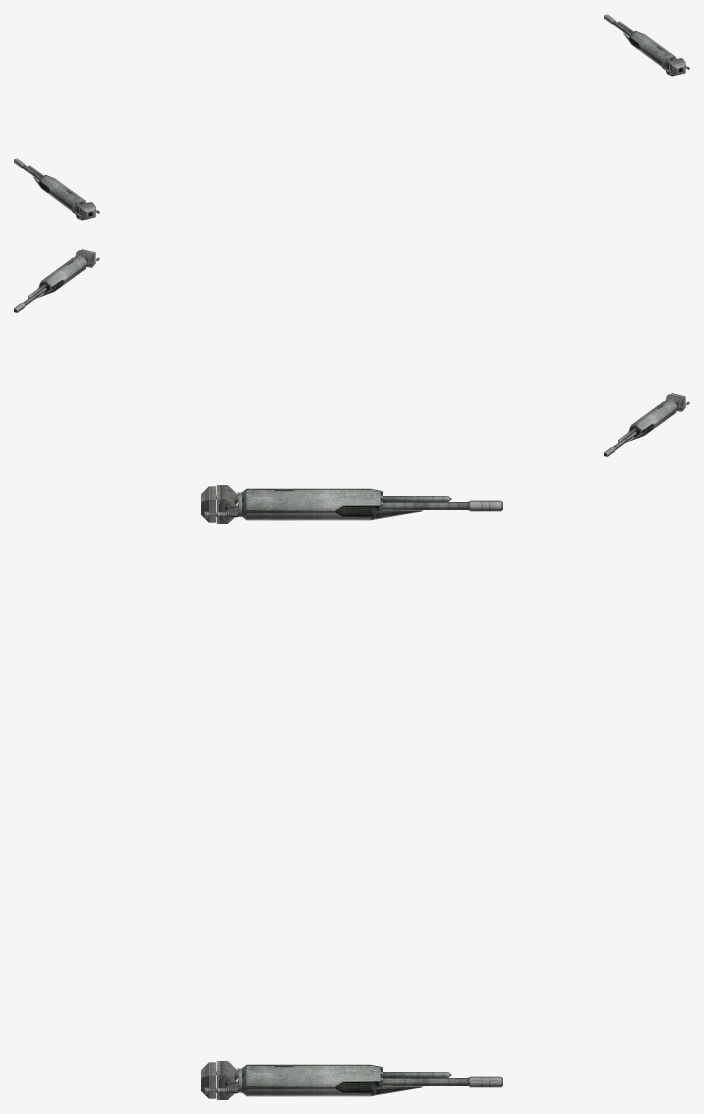
The model's file is hutt_fighter_heavy_weapon2_s03_l1.fbx.
3 views of the same model, one above another, from view 1: azimuth 30°, elevation 25°; view 2: azimuth 150°, elevation 25°; view 3: azimuth 270°, elevation 25° (orthographic). The views are drawn at different scales.
Parts seen in each view (by area): view 1: mesh_node; view 2: mesh_node; view 3: mesh_node.
Part boxes in pixels (x1,y1,x2,y2): mesh_node: (14,14,689,220); mesh_node: (14,249,689,456); mesh_node: (201,485,502,1099).
Bounding box in the file's own units: 26.82 × 0.6605 × 5.74.
1 material, 1 textured.
